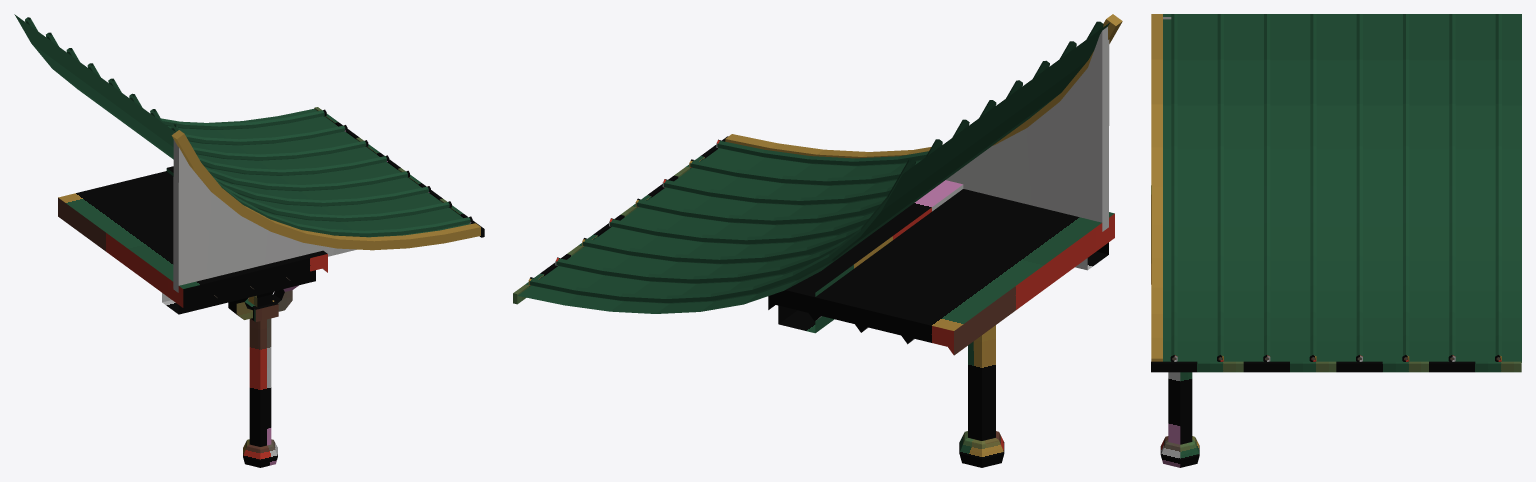
The model's file is Pagoda.fbx.
The picture shows the model from 3 angles, left to right: view 1: azimuth 30°, elevation 25°; view 2: azimuth 150°, elevation 25°; view 3: azimuth 270°, elevation 25°; orthographic projection. The views are drawn at different scales.
Visible parts, largest first — view 1: Plane.002, Ceil, RoofWallCurved, RoofFrontEdge, Pillar, Cube.012, PillarTop, RoofBambooEdge.002, PillarBottom; view 2: Plane.002, Ceil, RoofWallCurved, Cube.013, Pillar, RoofFrontEdge, RoofBambooEdge.002, PillarBottom; view 3: Plane.002, RoofBambooEdge.002, RoofFrontEdge, Pillar, PillarBottom.
Boxes of the visible parts, box(x1,y1,x2,y2) form: Plane.002: box(14, 14, 470, 237); Ceil: box(58, 171, 327, 307); RoofWallCurved: box(173, 133, 356, 292); RoofFrontEdge: box(171, 130, 480, 250); Pillar: box(249, 318, 271, 446); Cube.012: box(162, 270, 315, 314); PillarTop: box(228, 285, 298, 321); RoofBambooEdge.002: box(314, 107, 484, 237); PillarBottom: box(243, 439, 277, 467); Plane.002: box(518, 21, 1109, 313); Ceil: box(768, 189, 1114, 355); RoofWallCurved: box(946, 26, 1109, 231); Cube.013: box(778, 180, 963, 333); Pillar: box(968, 325, 995, 440); RoofFrontEdge: box(725, 14, 1122, 158); RoofBambooEdge.002: box(513, 136, 728, 304); PillarBottom: box(959, 431, 1004, 467); Plane.002: box(1163, 14, 1521, 362); RoofBambooEdge.002: box(1151, 355, 1521, 372); RoofFrontEdge: box(1151, 14, 1162, 361); Pillar: box(1168, 372, 1192, 444); PillarBottom: box(1160, 436, 1199, 467).
Bounding box in the file's own units: 426 × 475 × 400.
